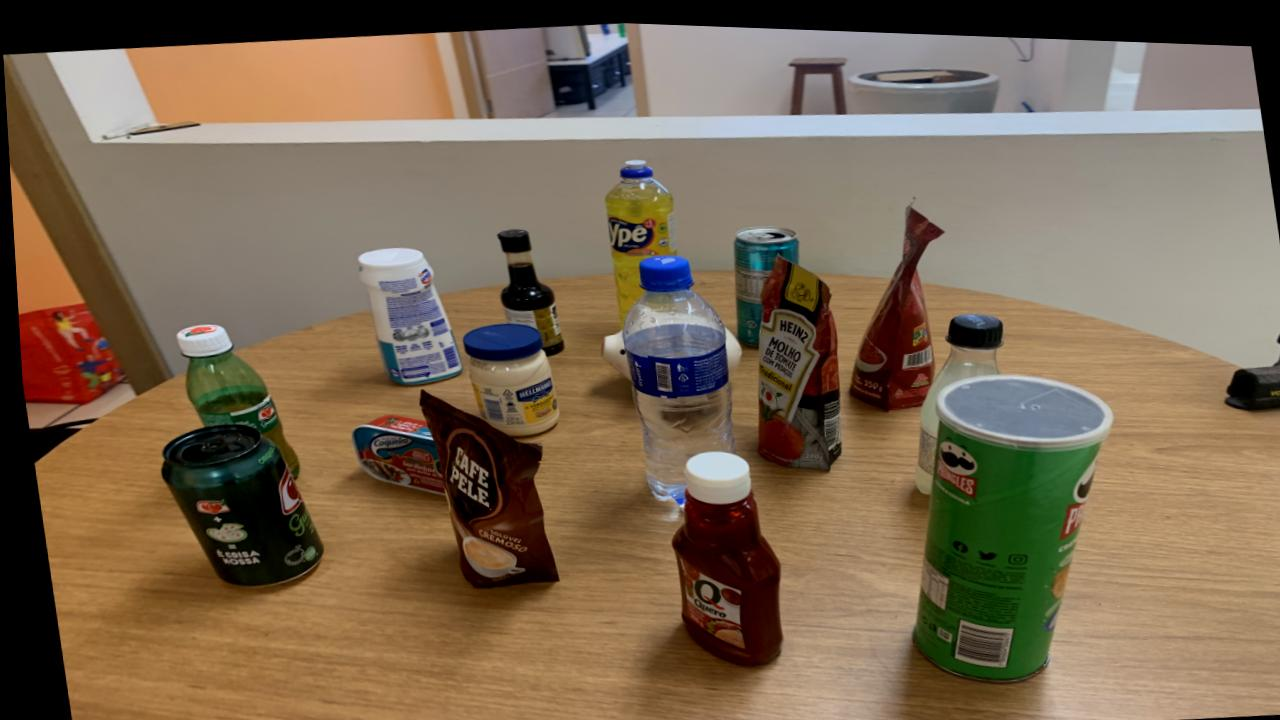Cleaner-Cleanup_Items: (355, 244, 457, 381)
Coffee-Pantry_Items: (414, 387, 551, 584)
Detergent-Cleanup_Items: (602, 155, 674, 317)
English_Sauce-Pantry_Items: (494, 225, 560, 351)
Guarana-Drinks: (173, 322, 294, 474)
Guarana_Can-Drinks: (156, 422, 317, 584)
Ketchup-Pantry_Items: (665, 445, 776, 661)
Mayonnaise-Pantry_Items: (458, 319, 554, 433)
Pig_Safe-Miscellaneous: (597, 326, 626, 375), (720, 324, 738, 365)
Pringles-Snacks: (905, 366, 1109, 675)
Soda-Drinks: (909, 307, 1000, 488)
Tea-Drinks: (730, 221, 796, 340)
Tomato_Sauce-Pantry_Items: (845, 200, 939, 403), (752, 251, 837, 464)
Tuna_Can-Pantry_Items: (346, 412, 439, 490)
Water_Bottle-Drinks: (617, 250, 729, 496)
